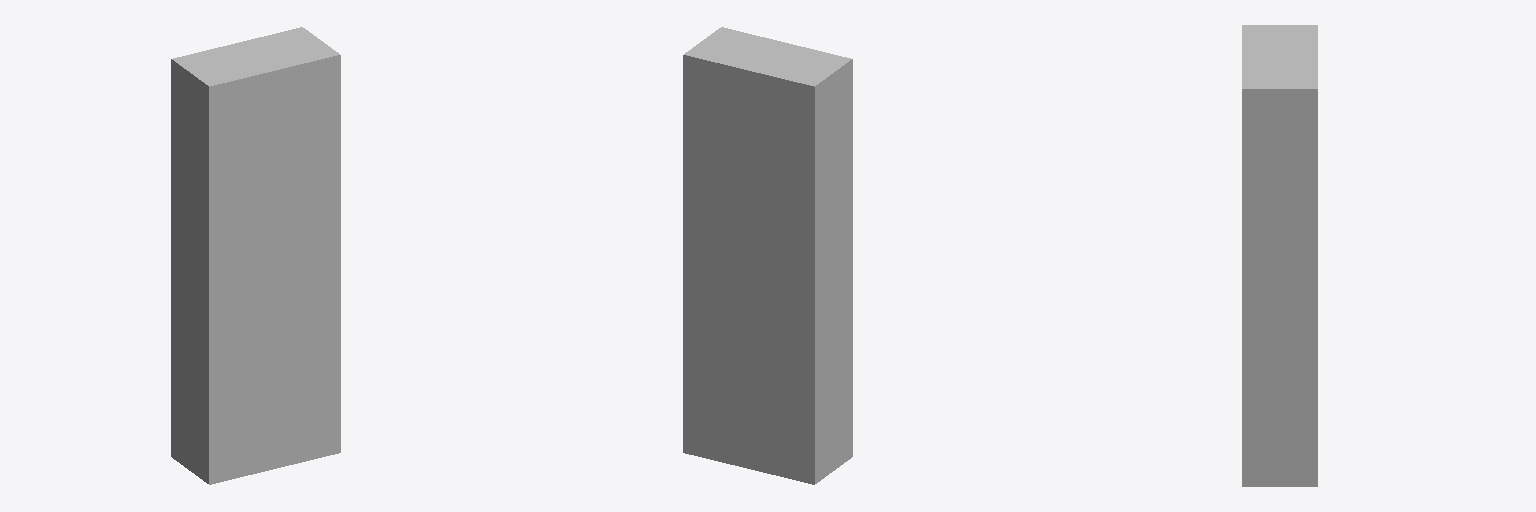
File: Joueur.obj
The picture shows the model from 3 angles: view 1: azimuth 30°, elevation 25°; view 2: azimuth 150°, elevation 25°; view 3: azimuth 270°, elevation 25°; orthographic projection.
Size of the model in its own units: 0.6 by 1.74 by 0.3.